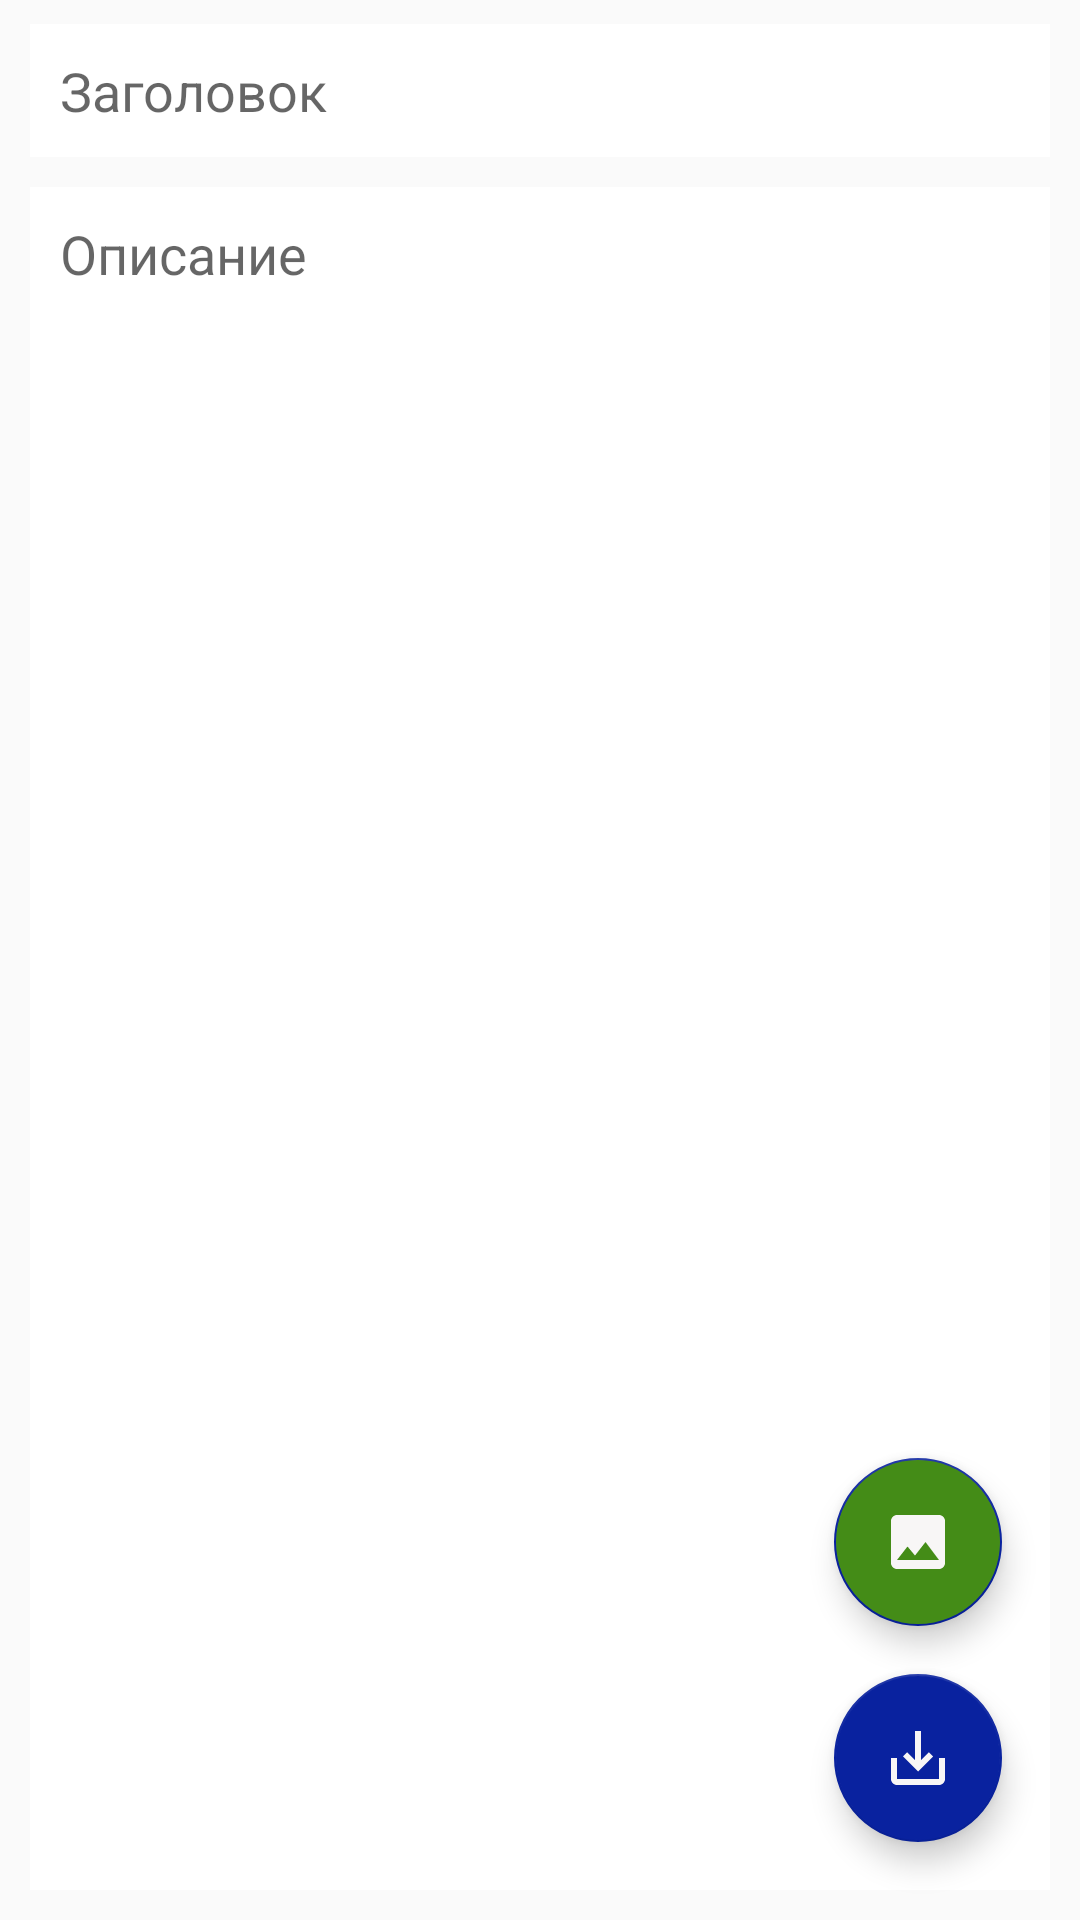

Where to tap for icons on this 1080×1920 app screen, as (x=x, y=y):
save: (x=918, y=1758)
